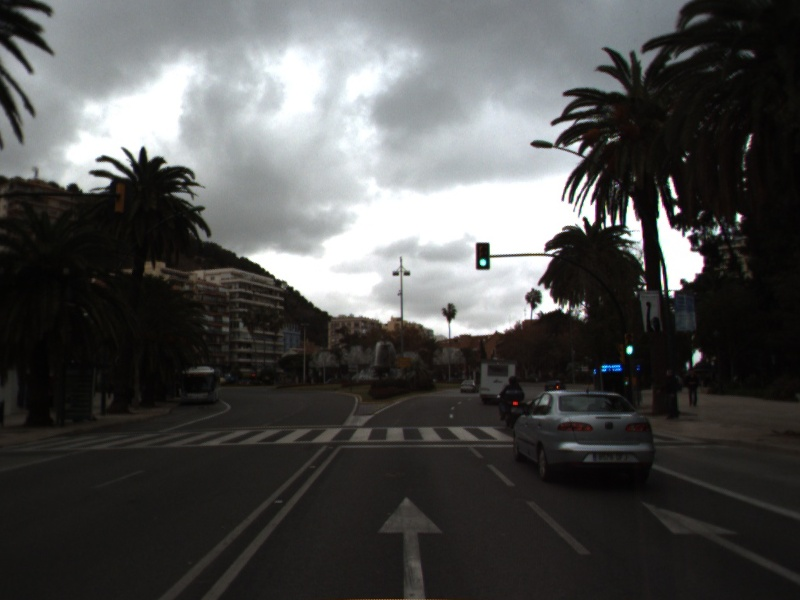STRAIGHT: (640, 499, 800, 586), (373, 494, 447, 600)
